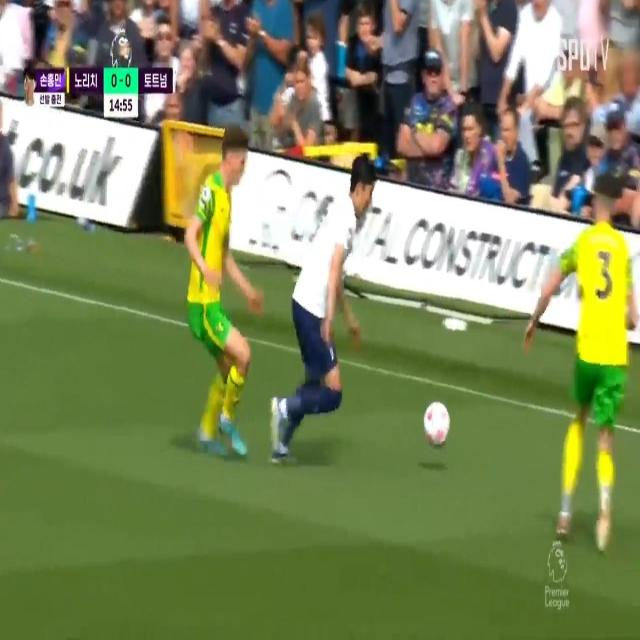player: (524, 173, 634, 552), (266, 156, 382, 448), (187, 112, 255, 452)
referee: (420, 399, 450, 447)
